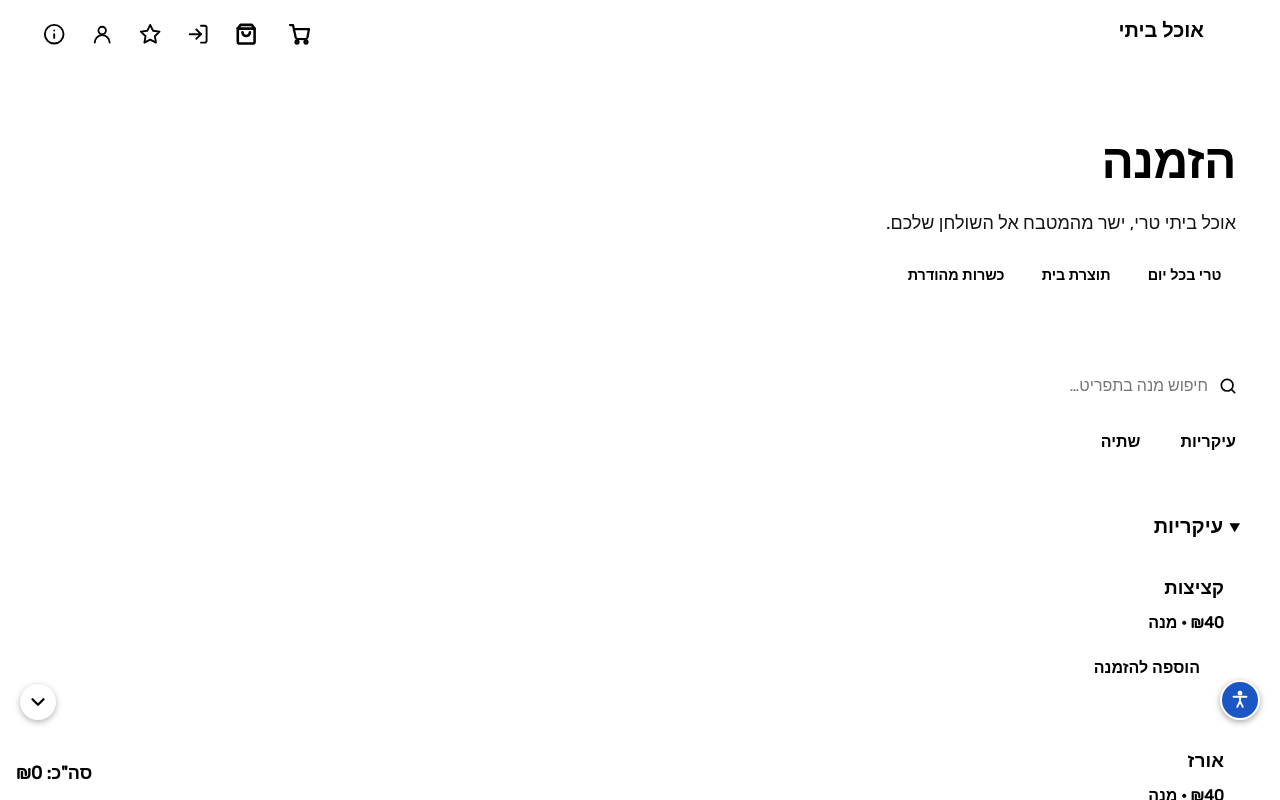
Test case: The basket button › is always there and counts dishes, side dishes and drinks together
The width and height of the screenshot is (1280, 800).
Expected: the button named "הסל שלי" is shown, [272,12,328,56]
What coordinates should you click on to do the following:
click the button "הוספה להזמנה"
I would click on:
 (1147, 668)
Its box is [1074,645,1220,691].
(page scrolled)
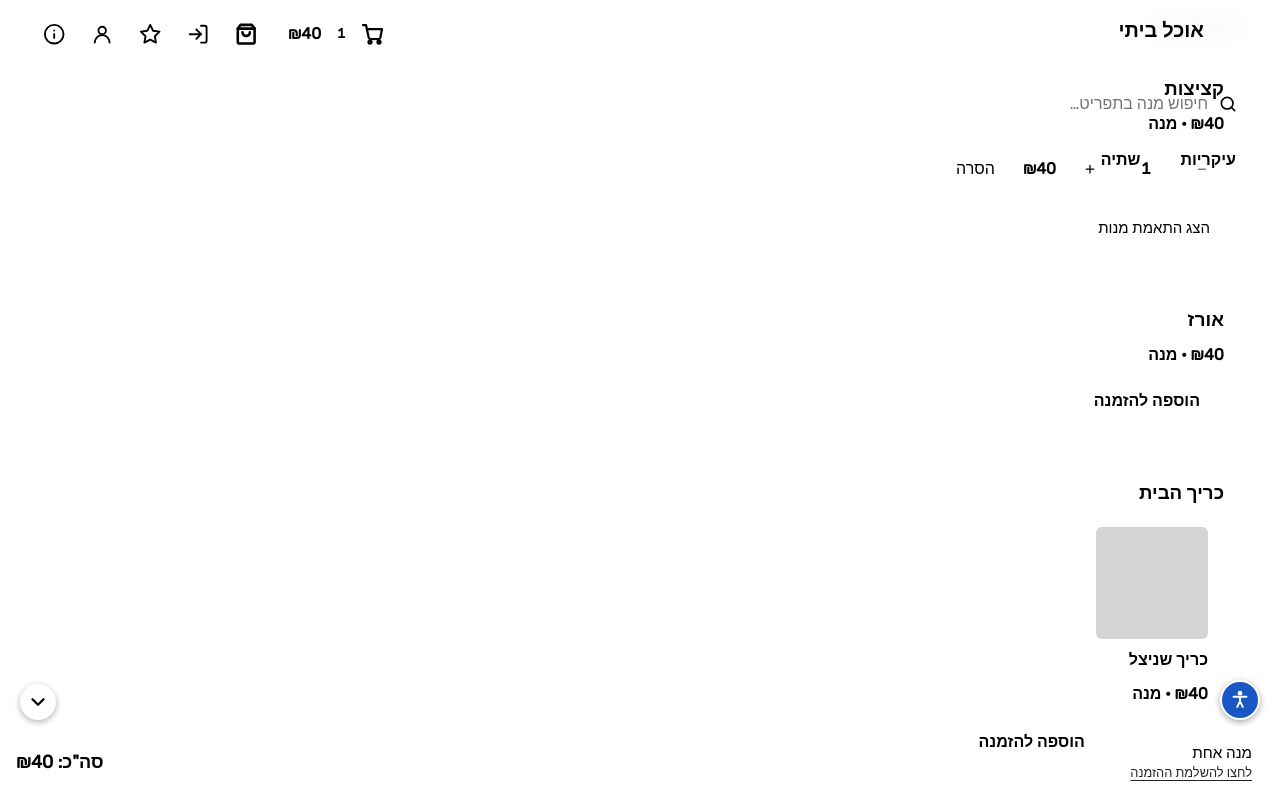
What coordinates should you click on to do the following:
click the button "הוספה להזמנה"
I would click on:
 (1147, 401)
Its box is [1074,378,1220,424].
(page scrolled)
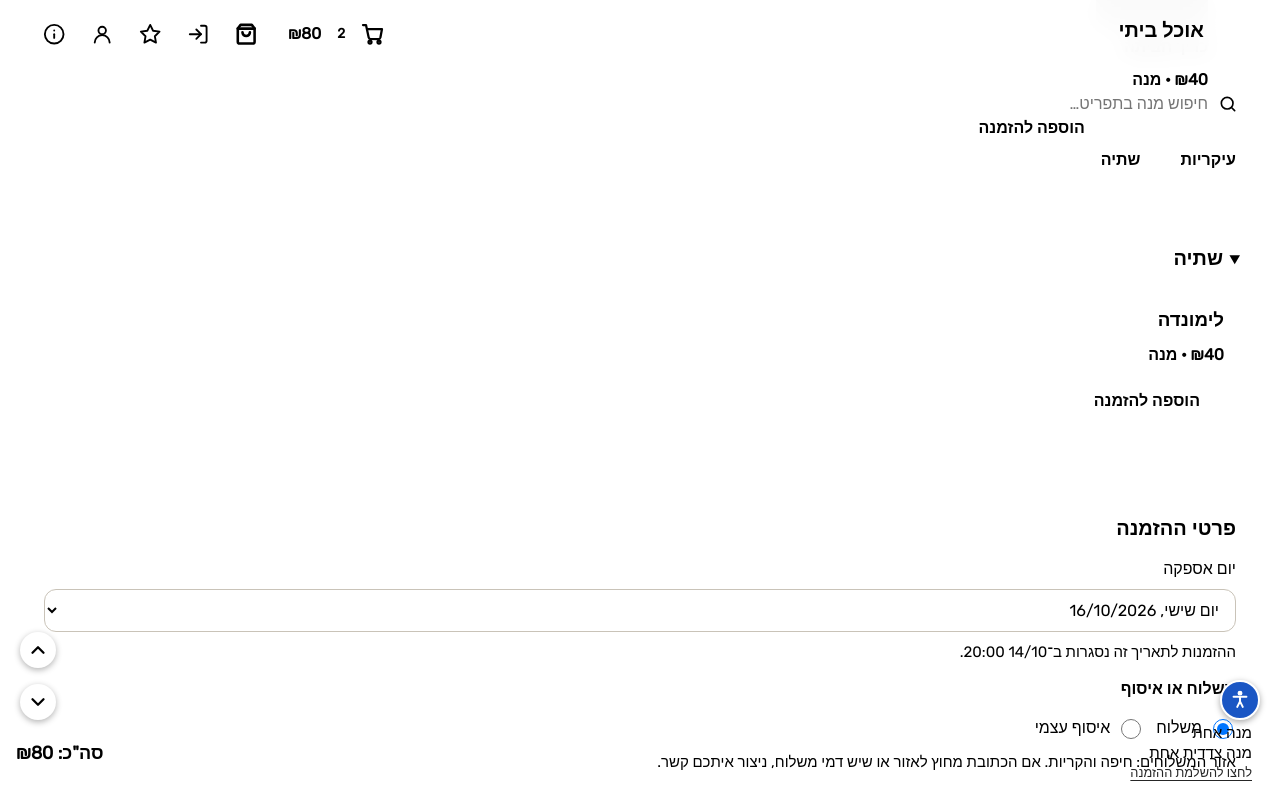
What coordinates should you click on to do the following:
click the button "הוספה להזמנה"
I would click on:
 (1147, 401)
Its box is [1074,378,1220,424].
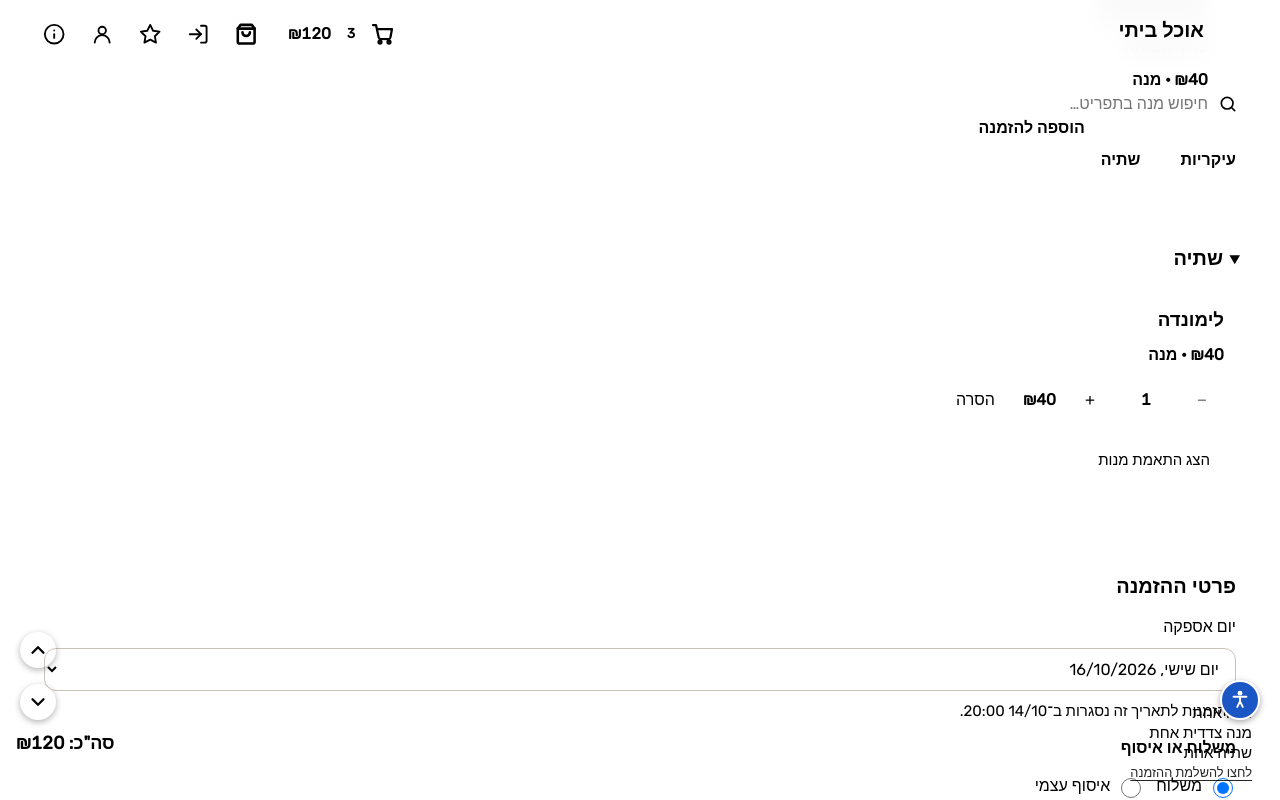
Now the button named "הסל שלי, 3 פריטים" shows "3", box [272,12,411,56]
